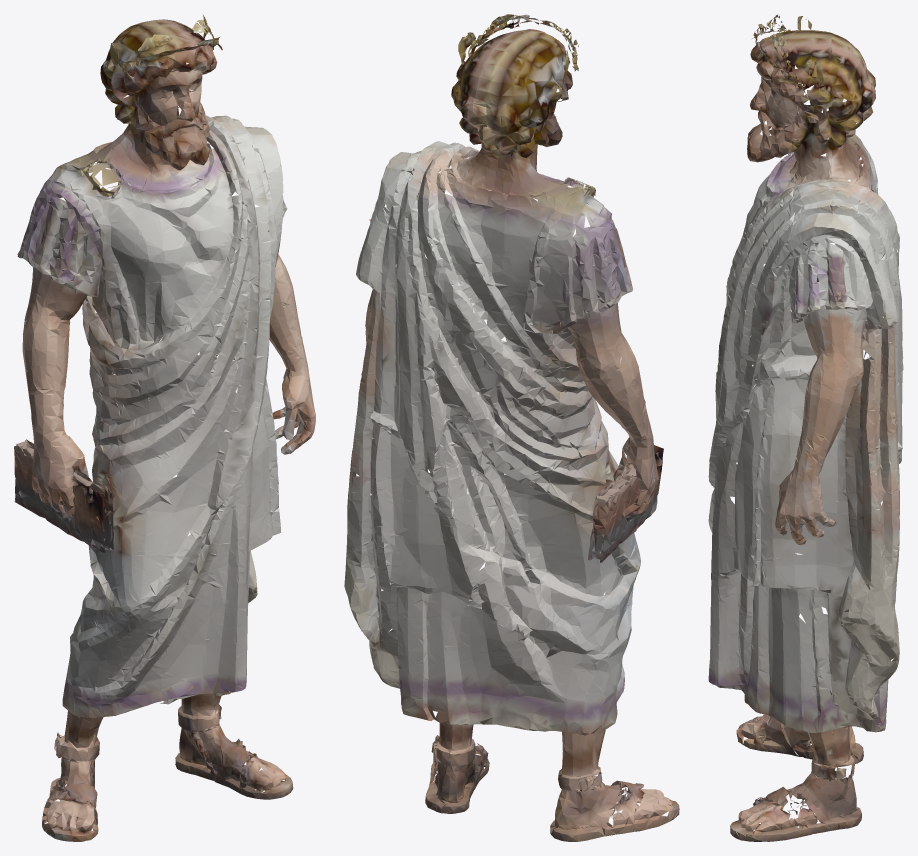
Rendered from marco.glb.
The picture shows the model from 3 angles, left to right: view 1: azimuth 30°, elevation 25°; view 2: azimuth 150°, elevation 25°; view 3: azimuth 270°, elevation 25°; orthographic projection.
Bounding box in the file's own units: 0.6572 × 1.72 × 0.3947.
